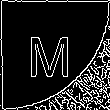M_N: (33, 30, 77, 80)
